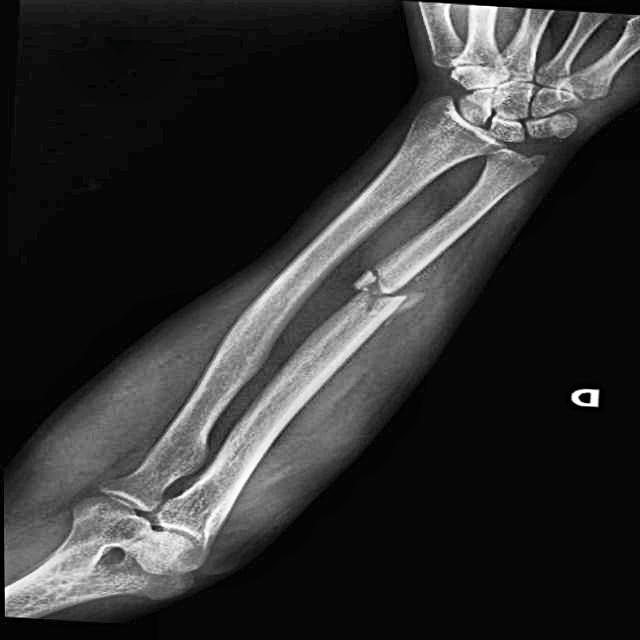Comminuted: (334, 256, 470, 333)
